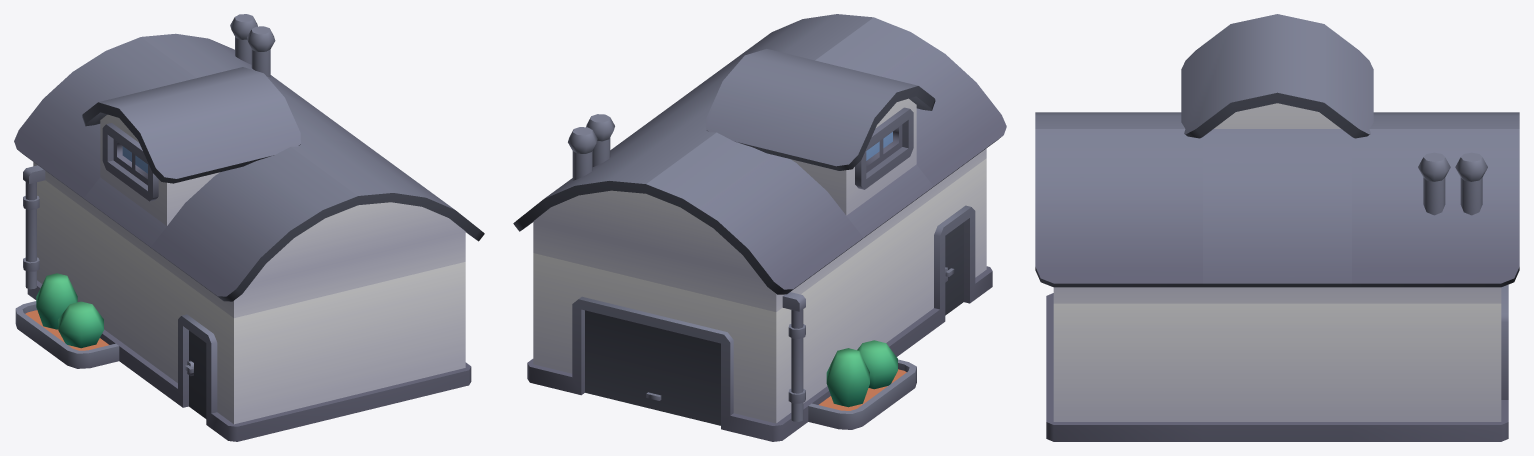
The model's file is air_hangar.glb.
The picture shows the model from 3 angles, left to right: view 1: azimuth 30°, elevation 25°; view 2: azimuth 150°, elevation 25°; view 3: azimuth 270°, elevation 25°; orthographic projection. The views are drawn at different scales.
Parts seen in each view (by area): view 1: building-j; view 2: building-j; view 3: building-j.
Boxes of the visible parts, x1,y1,x2,y2 form: building-j: (14, 14, 484, 441); building-j: (513, 14, 1006, 441); building-j: (1035, 14, 1519, 441).
Size of the model in its own units: 1.03 by 0.8612 by 1.3.
Materials: 1 (1 with a texture image).
